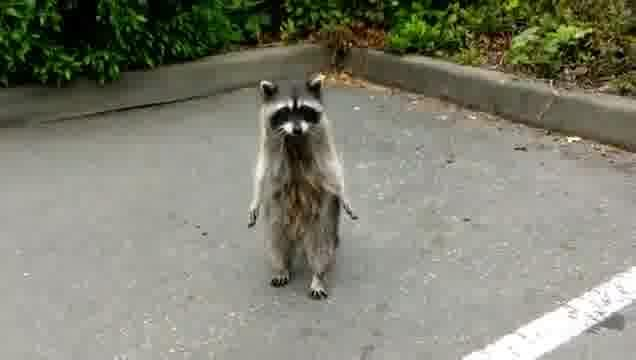raccoon: (245, 73, 360, 303)
